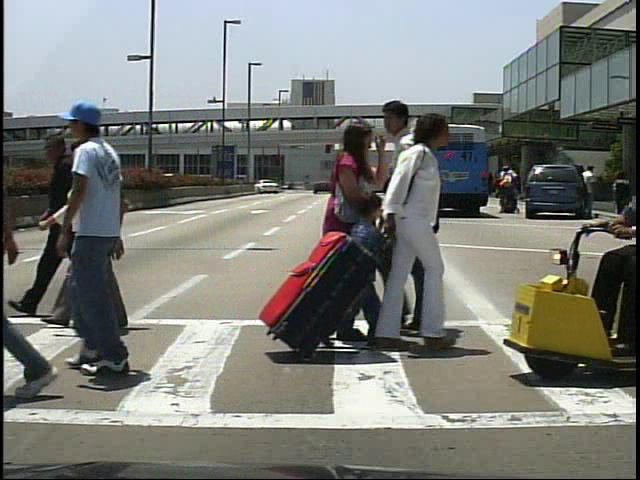person: (57, 105, 165, 388), (362, 99, 473, 350), (358, 117, 463, 368), (320, 122, 388, 357), (60, 137, 124, 330), (34, 129, 91, 323), (336, 182, 384, 319), (582, 164, 602, 218), (498, 166, 516, 219), (502, 165, 521, 214)
